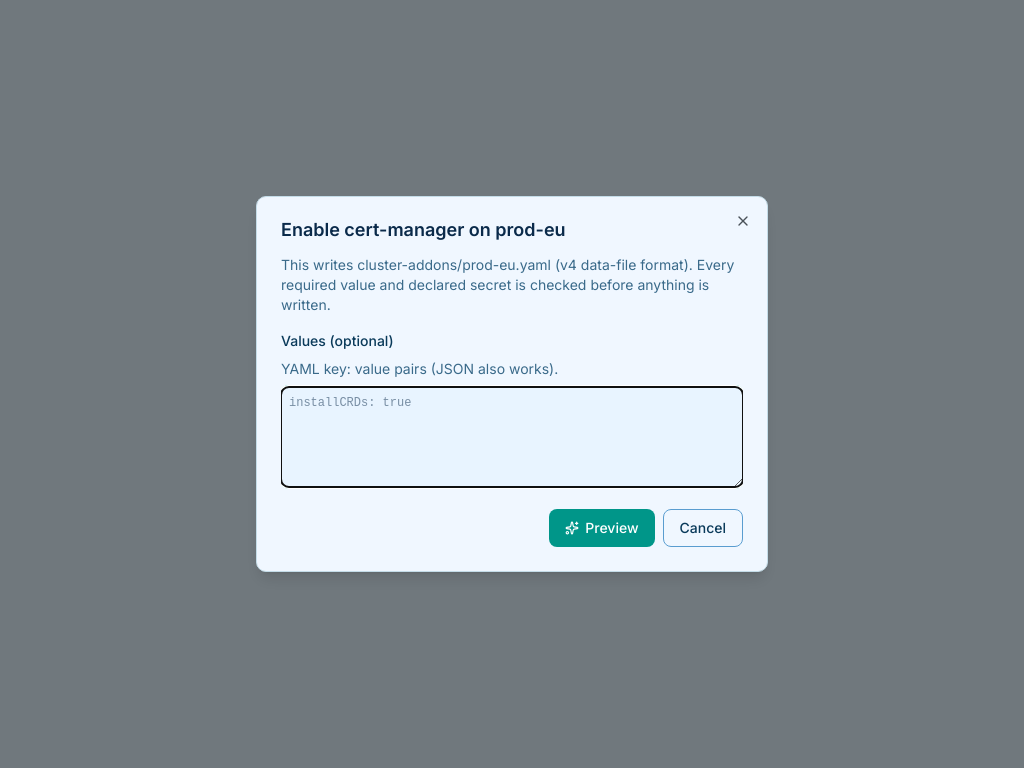
V4EnableAddonDialog › preview shows the exact files to write
Click the button "Preview".
click(602, 528)  # box [549,509,655,547]
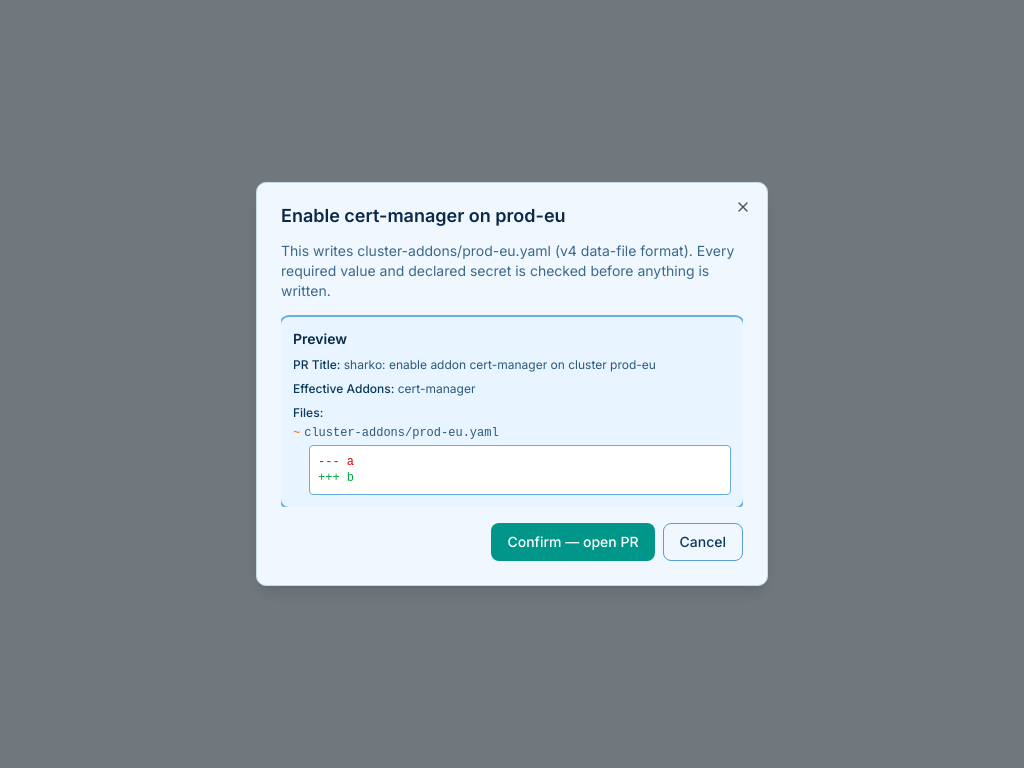
Expected: the text "cluster-addons/prod-eu.yaml" is shown, [304,425,499,441]
Expected: the button with test id "v4-confirm" is shown, [492,523,655,561]
